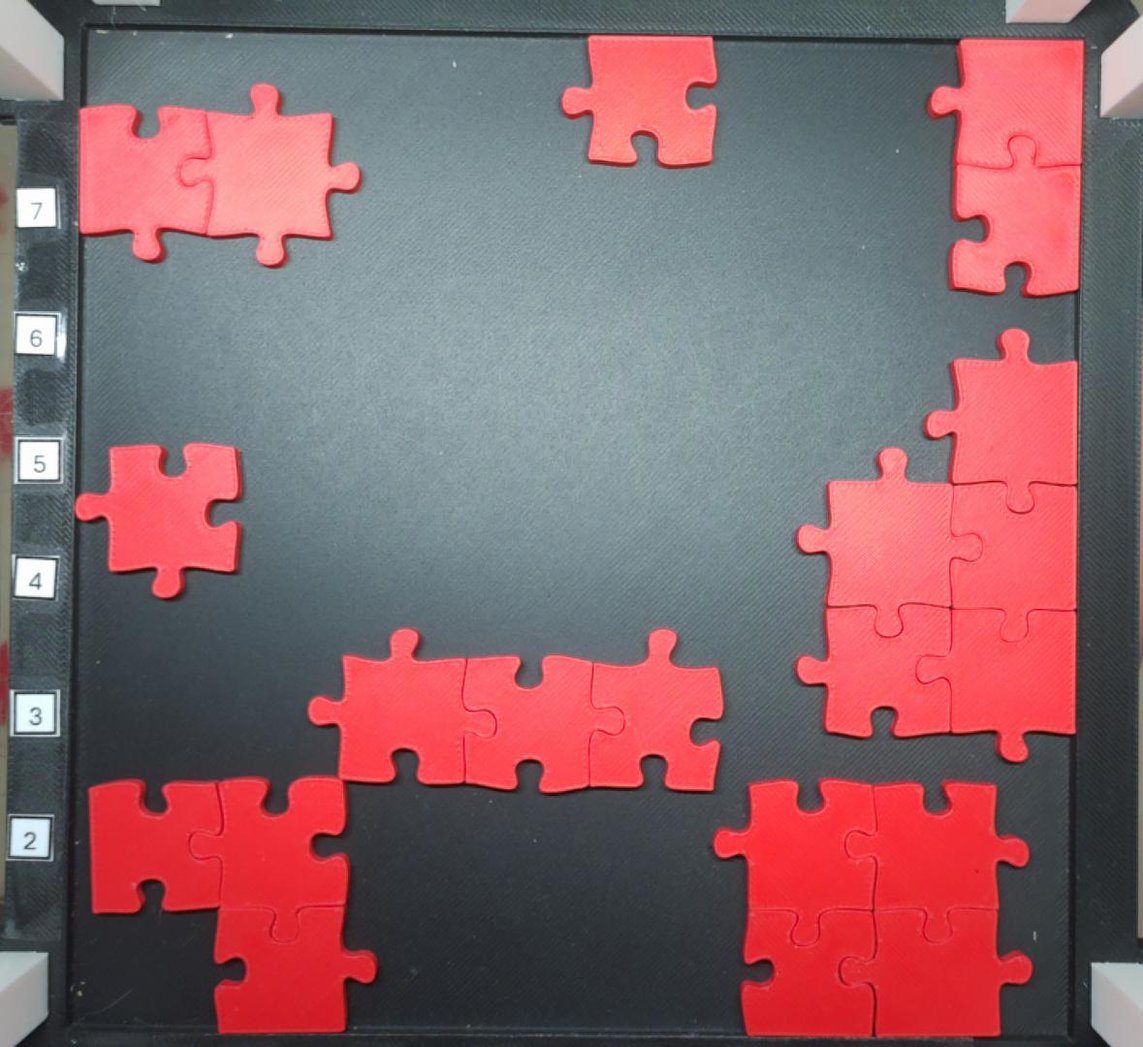p_1: (75, 443, 246, 601), (563, 33, 724, 175)
p_2: (79, 79, 363, 267), (928, 36, 1082, 302)
p_3: (83, 770, 379, 1038), (306, 625, 726, 796)
p_4: (706, 776, 1032, 1034)
p_m: (797, 329, 1079, 762)
